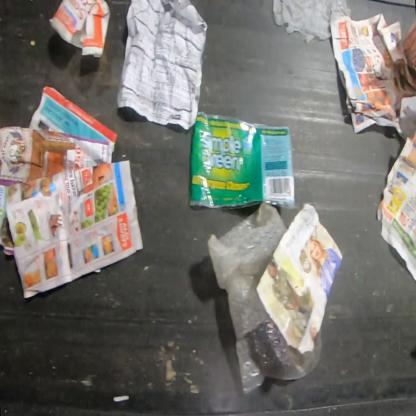rigid_plastic: (47, 0, 112, 58)
soft_plastic: (207, 204, 323, 395), (188, 110, 302, 210)
